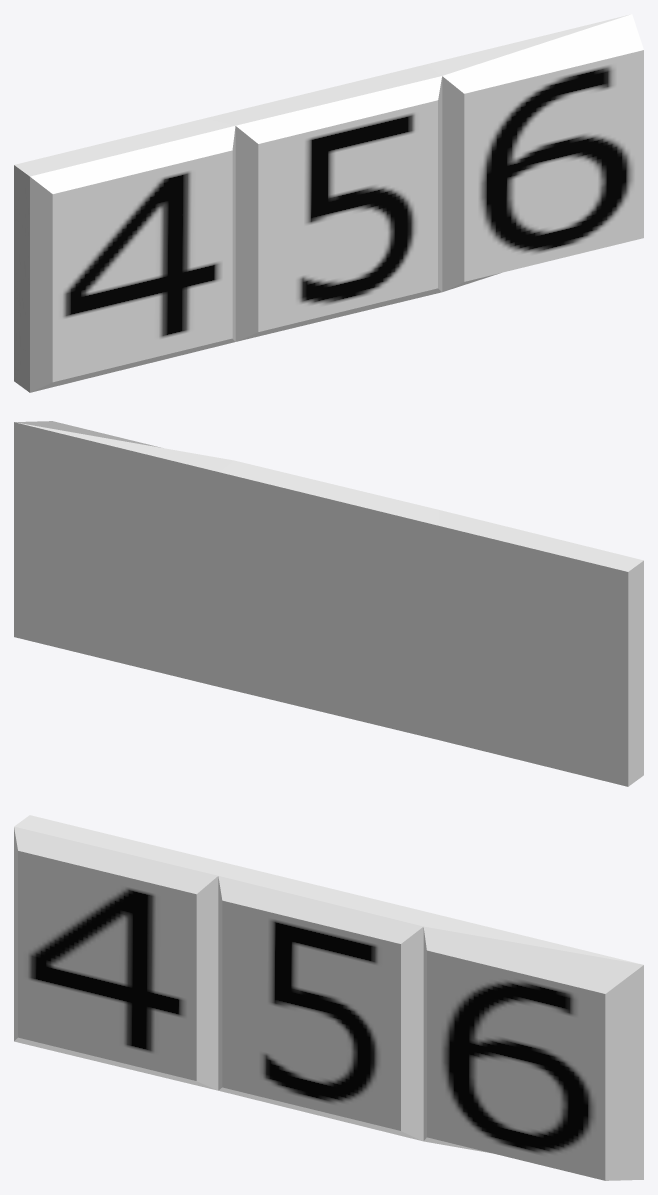
3 renders of one model, top to bottom at view 1: azimuth 30°, elevation 25°; view 2: azimuth 150°, elevation 25°; view 3: azimuth 330°, elevation 25°, orthographic.
Parts seen in each view (by area): view 1: polySurface33; view 2: polySurface33; view 3: polySurface33.
Part boxes in pixels (left/top/right/bottom): polySurface33: left=14, top=14, right=643, bottom=392; polySurface33: left=14, top=421, right=643, bottom=786; polySurface33: left=14, top=815, right=643, bottom=1180.
Bounding box in the file's own units: 0.624 × 0.2093 × 0.0443.
1 material, 1 textured.
